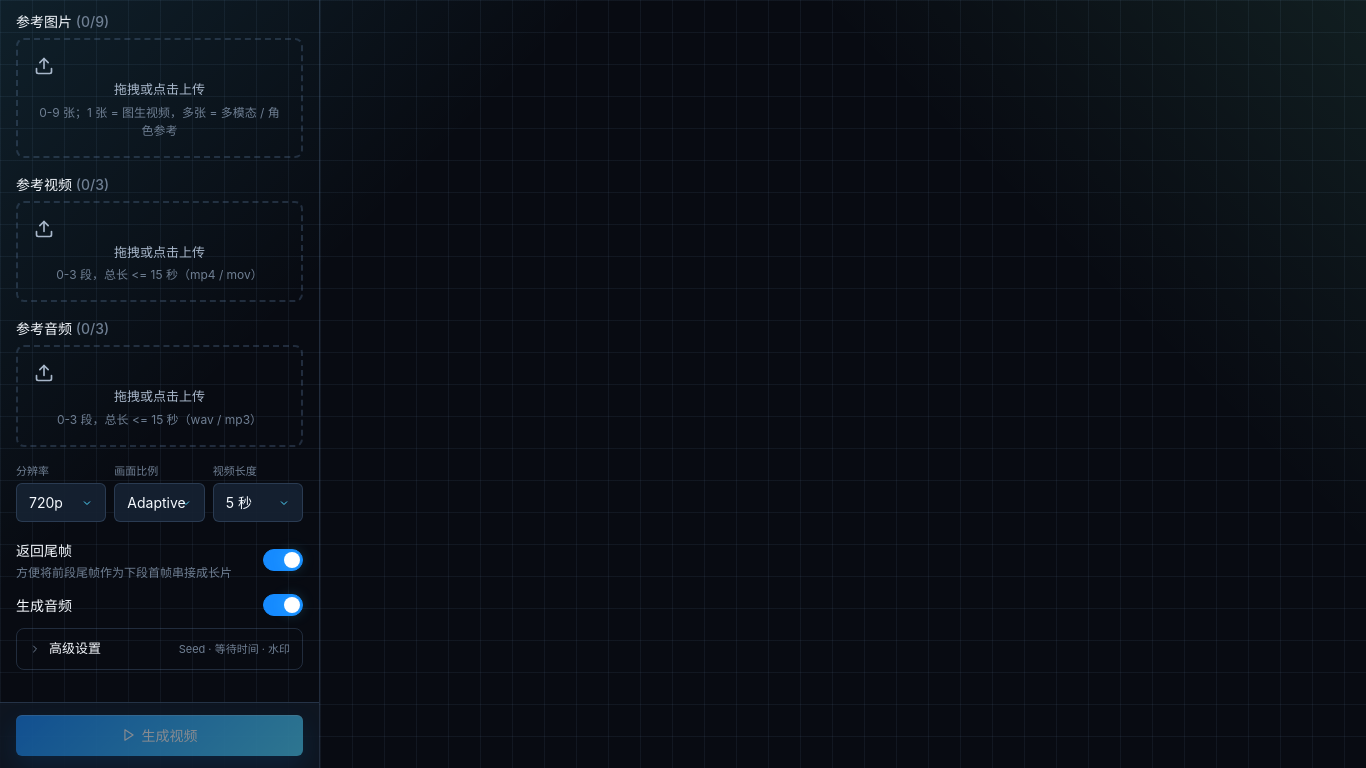
VideoParams — seed input › renders the seed label and a number input defaulting to -1
The width and height of the screenshot is (1366, 768).
(page scrolled)
Click the button "高级设置 Seed · 等待时间 · 水印" at [75, 648], box [17,629,302,668]
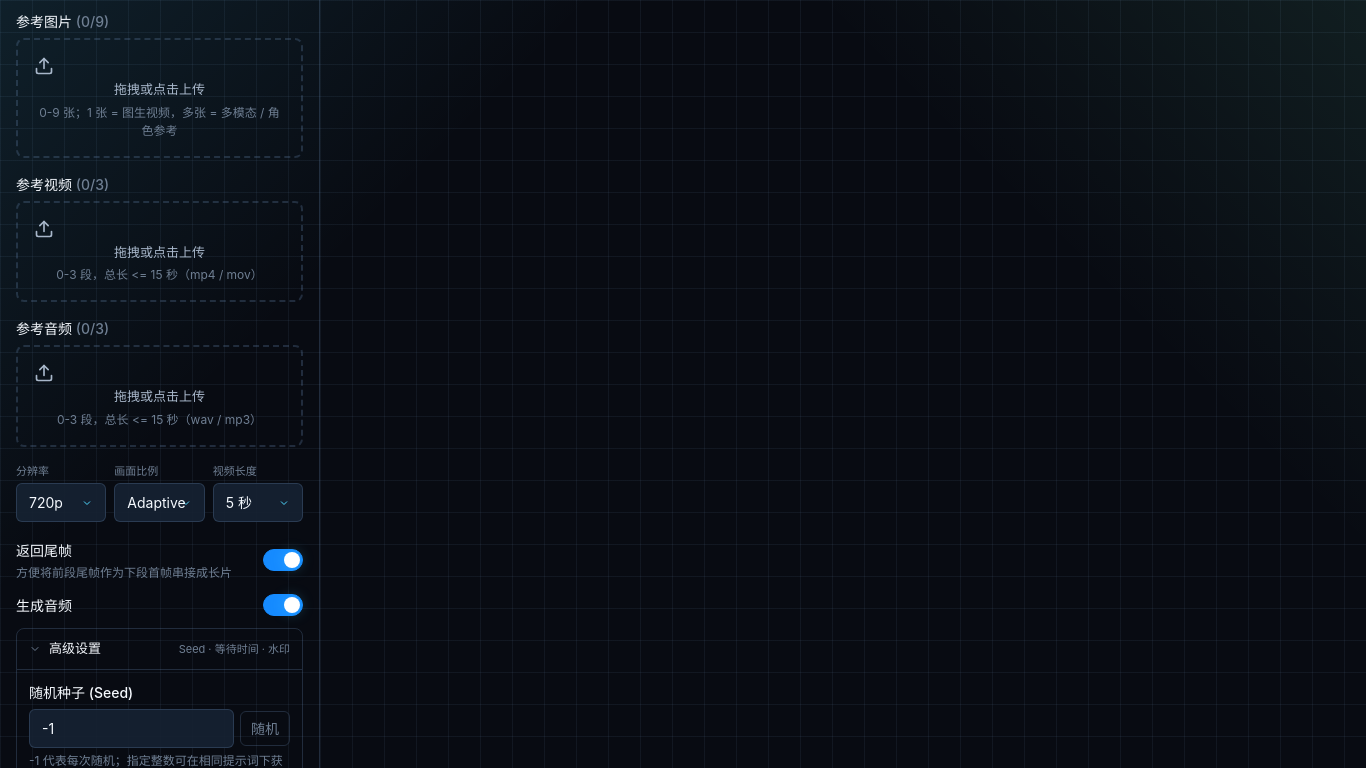
Check: the number field labelled "随机种子 (Seed)" holds "-1", box [29,708,234,748]
